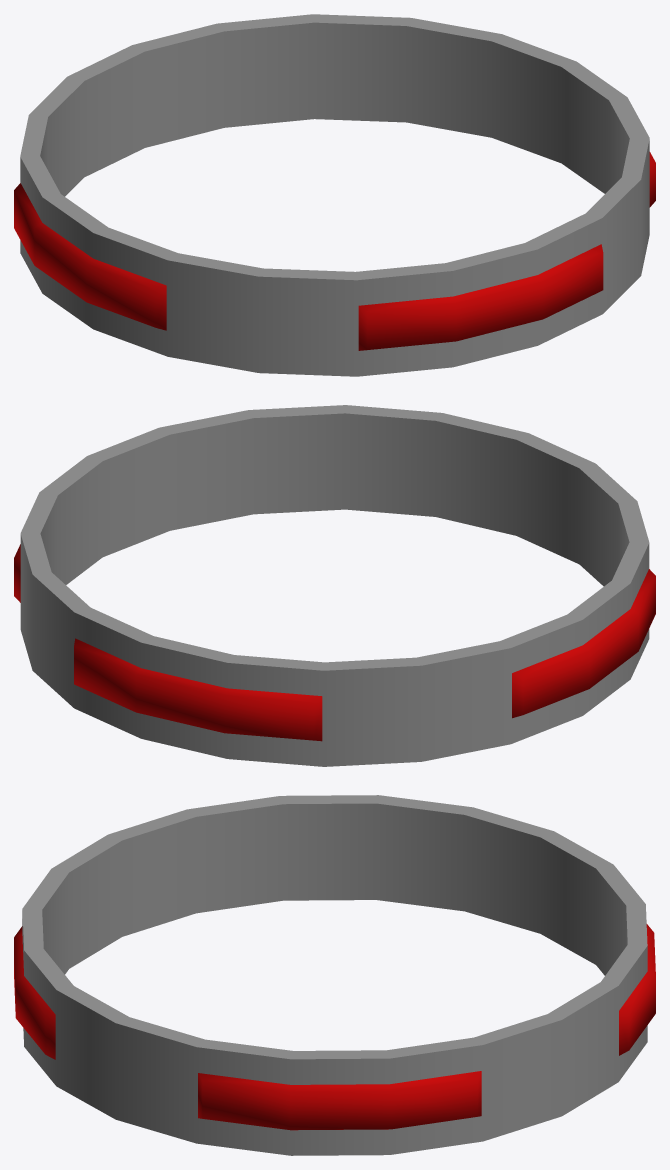
File: Detonator.fbx
The picture shows the model from 3 angles, top to bottom: view 1: azimuth 30°, elevation 25°; view 2: azimuth 150°, elevation 25°; view 3: azimuth 270°, elevation 25°; orthographic projection.
Parts seen in each view (by area): view 1: Detonator, Lights; view 2: Detonator, Lights; view 3: Detonator, Lights.
Boxes of the visible parts, x1,y1,x2,y2 form: Detonator: (20, 14, 649, 376); Lights: (14, 152, 655, 350); Detonator: (20, 405, 649, 766); Lights: (14, 544, 655, 741); Detonator: (22, 795, 647, 1155); Lights: (14, 924, 655, 1130).
Size of the model in its own units: 27.13 by 27.13 by 4.5.
